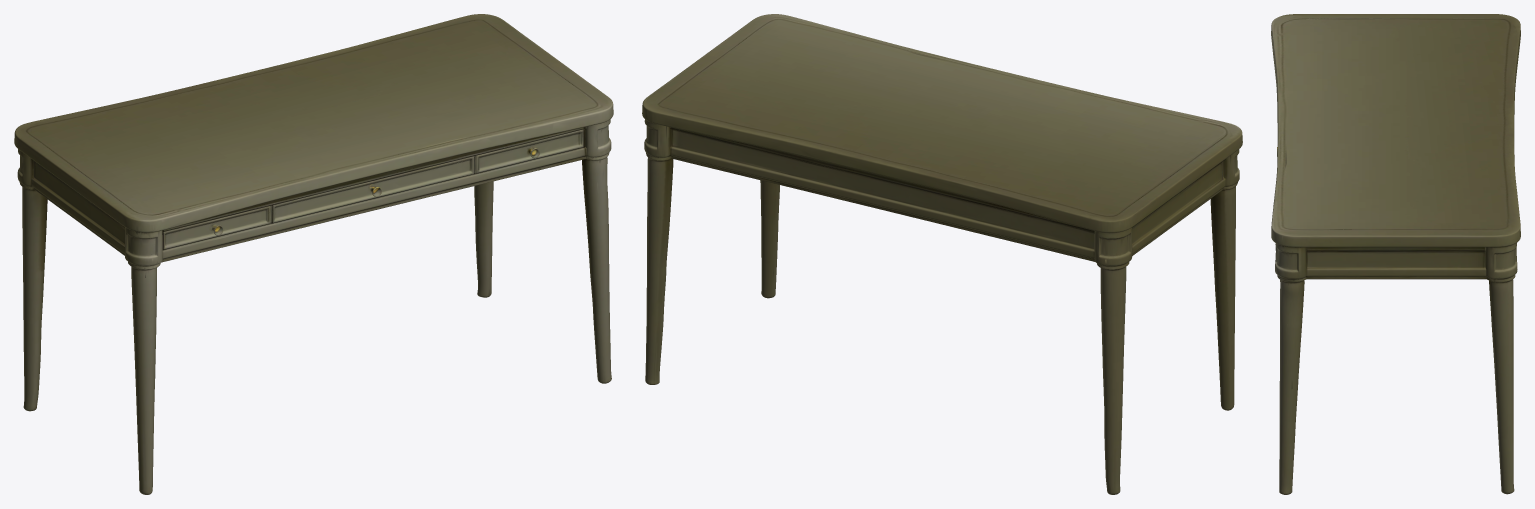
File: c04-realistic.glb
3 views of the same model, side by side, from view 1: azimuth 30°, elevation 25°; view 2: azimuth 150°, elevation 25°; view 3: azimuth 270°, elevation 25° (orthographic). The views are drawn at different scales.
Parts seen in each view (by area): view 1: node_0; view 2: node_0; view 3: node_0.
Part boxes in pixels (bbox=[...]): node_0: bbox=[14, 14, 613, 494]; node_0: bbox=[642, 14, 1242, 494]; node_0: bbox=[1271, 14, 1520, 494].
Bounding box in the file's own units: 0.9965 × 0.5456 × 0.4716.
1 material, 1 textured.
